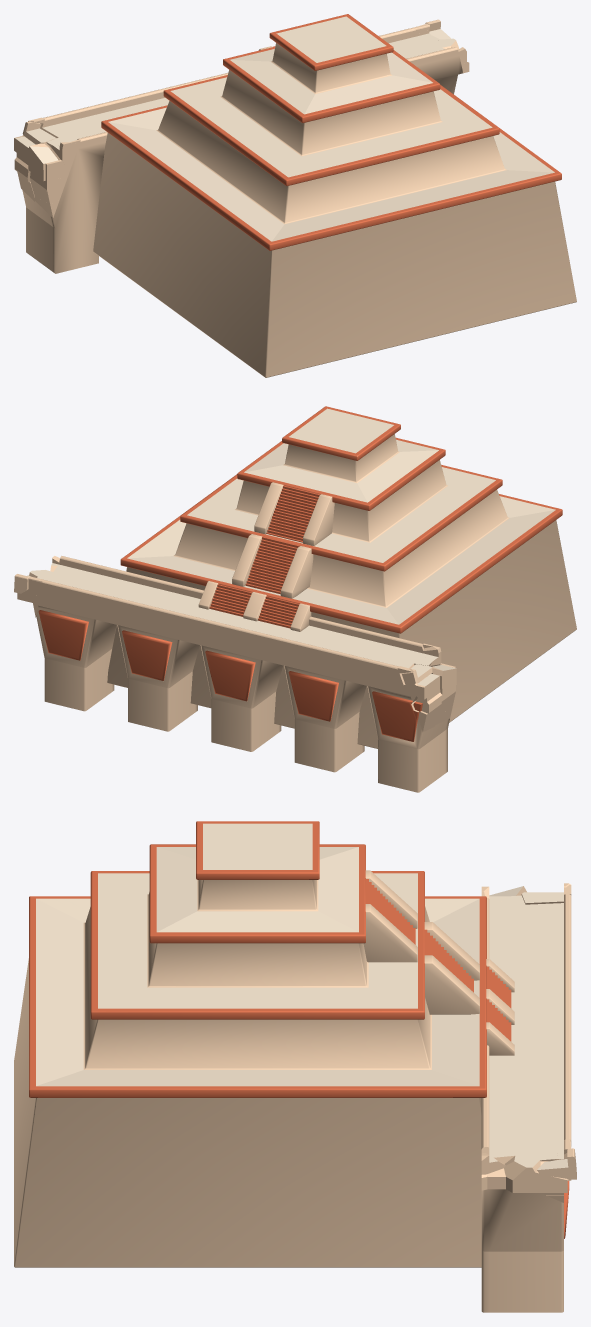
The picture shows the model from 3 angles, top to bottom: view 1: azimuth 30°, elevation 25°; view 2: azimuth 150°, elevation 25°; view 3: azimuth 270°, elevation 25°; orthographic projection. The views are drawn at different scales.
Parts seen in each view (by area): view 1: LS_D, Bridge, Bridge_endB, Bridge_endA; view 2: LS_D, Bridge, Temple_Stairs, Temple_stairs_support, Bridge_endB, Bridge_endA; view 3: LS_D, Bridge, Temple_stairs_support, Bridge_endA, Temple_Stairs, Bridge_endB.
Boxes of the visible parts, x1=… form: LS_D: x1=93, y1=14, x2=576, y2=377; Bridge: x1=22, y1=27, x2=462, y2=273; Bridge_endB: x1=14, y1=117, x2=80, y2=217; Bridge_endA: x1=413, y1=19, x2=469, y2=73; LS_D: x1=107, y1=406, x2=576, y2=748; Bridge: x1=36, y1=556, x2=449, y2=792; Temple_Stairs: x1=209, y1=485, x2=320, y2=628; Temple_stairs_support: x1=198, y1=482, x2=334, y2=631; Bridge_endB: x1=397, y1=643, x2=456, y2=731; Bridge_endA: x1=14, y1=556, x2=59, y2=617; LS_D: x1=14, y1=821, x2=486, y2=1267; Bridge: x1=481, y1=894, x2=571, y2=1312; Temple_stairs_support: x1=363, y1=870, x2=514, y2=1055; Bridge_endA: x1=481, y1=1139, x2=576, y2=1202; Temple_Stairs: x1=366, y1=879, x2=511, y2=1041; Bridge_endB: x1=481, y1=883, x2=571, y2=906.
Bounding box in the file's own units: 7082 × 3914 × 5955.
